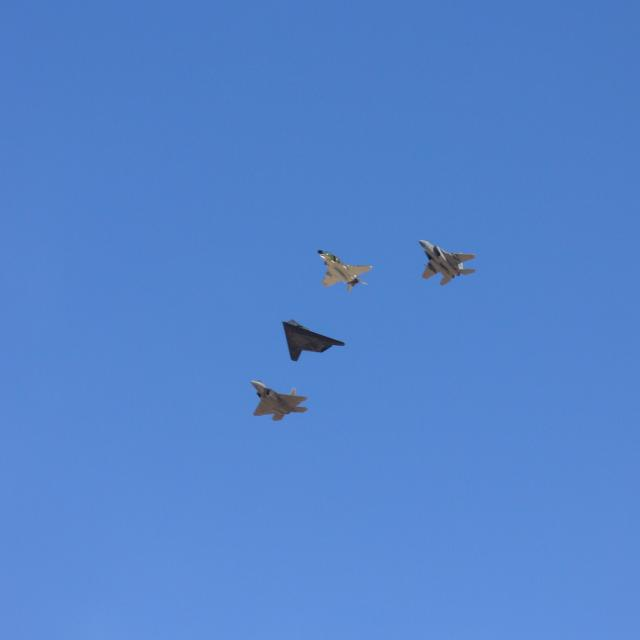MIL_Plane: (282, 318, 346, 362), (418, 239, 476, 285), (250, 380, 309, 422), (316, 249, 372, 292)
